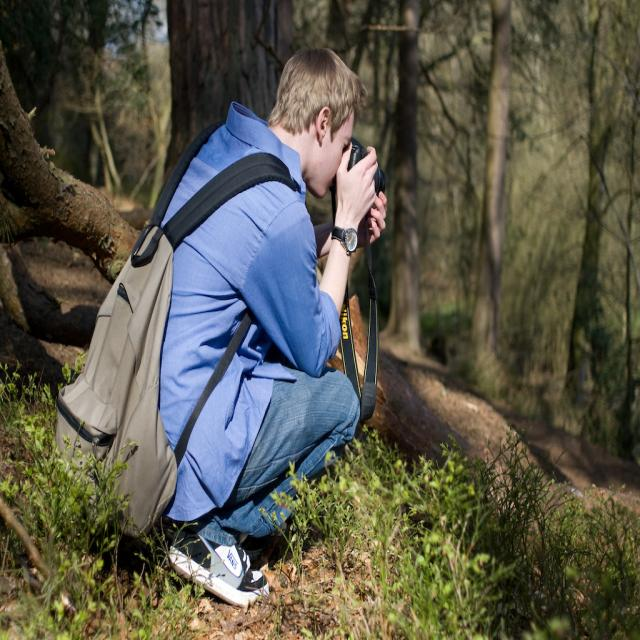backpack: (56, 117, 300, 540)
